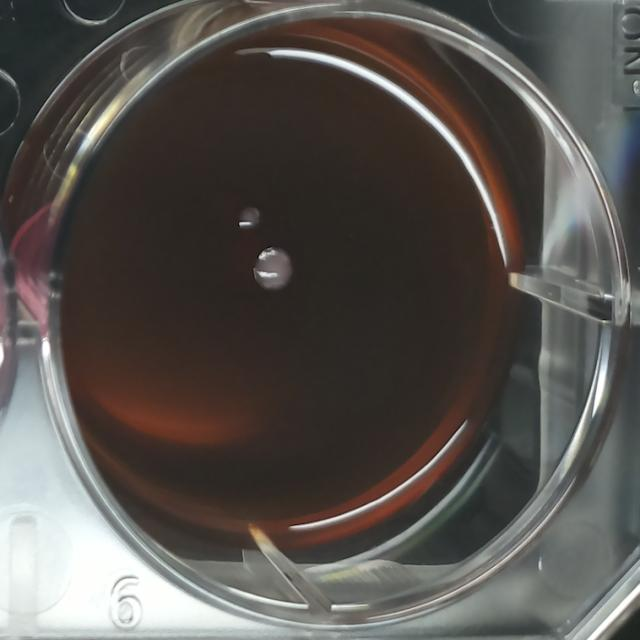Pseudoalteromonas: (250, 242, 299, 296)
